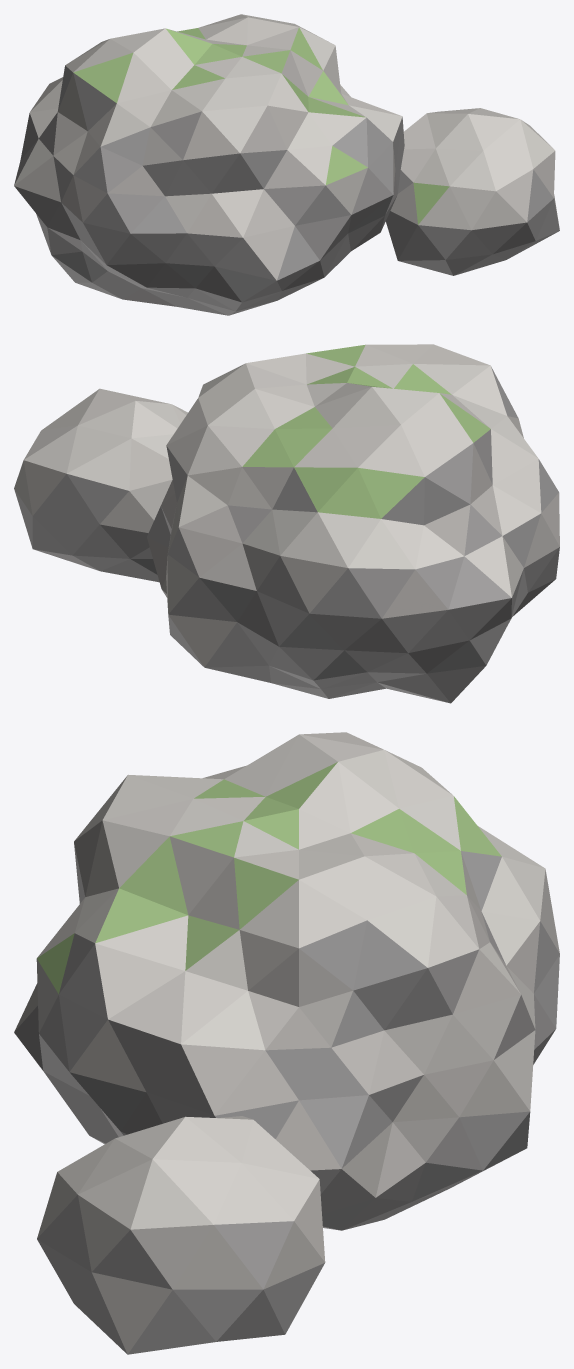
File: RockPair.glb
3 views of the same model, one above another, from view 1: azimuth 30°, elevation 25°; view 2: azimuth 150°, elevation 25°; view 3: azimuth 270°, elevation 25° (orthographic). The views are drawn at different scales.
Visible parts, largest first — view 1: RockPair_Big, RockPair_Small; view 2: RockPair_Big, RockPair_Small; view 3: RockPair_Big, RockPair_Small.
Boxes of the visible parts, x1,y1,x2,y2 form: RockPair_Big: [14, 14, 404, 315]; RockPair_Small: [386, 108, 559, 275]; RockPair_Big: [147, 344, 559, 703]; RockPair_Small: [14, 388, 187, 582]; RockPair_Big: [14, 732, 559, 1230]; RockPair_Small: [37, 1116, 325, 1354].
Size of the model in its own units: 2.89 by 1.47 by 1.92.
